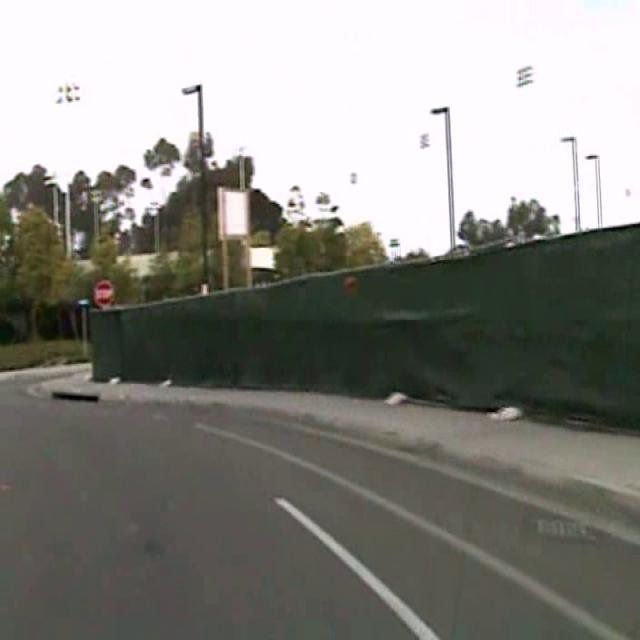stop_sign: (94, 278, 114, 310)
